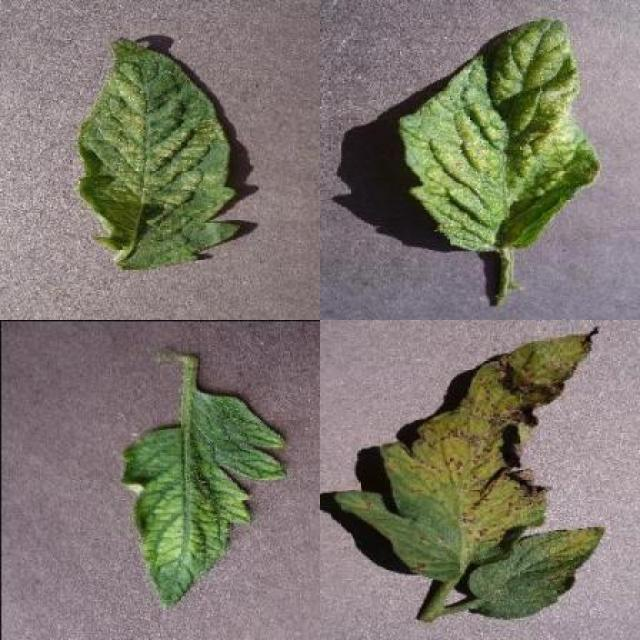Mosaic Virus: (119, 388, 288, 615)
Septoria: (334, 326, 606, 581)
Spider Mites: (398, 18, 599, 253), (78, 34, 241, 272)
